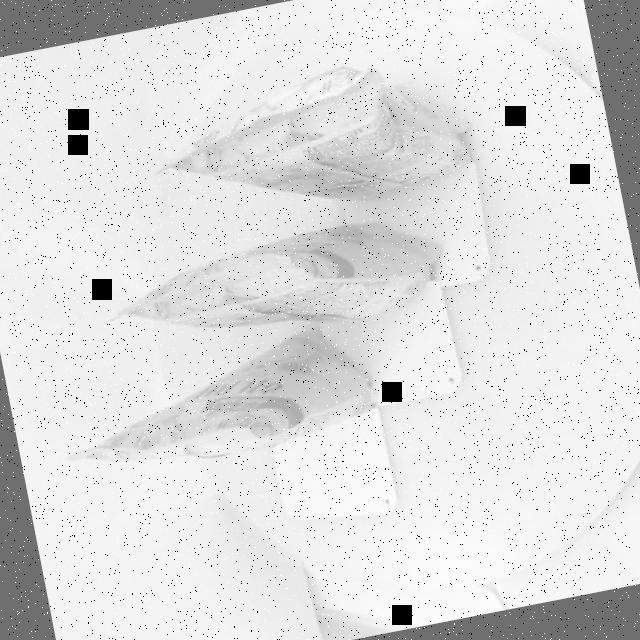snack_bag: (0, 20, 555, 512)
